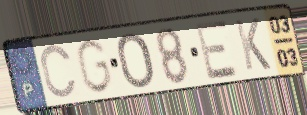8: (153, 26, 191, 86)
C: (39, 42, 79, 100)
E: (192, 16, 242, 82)
G: (74, 37, 114, 96)
K: (232, 16, 273, 73)
O: (115, 30, 156, 91)
